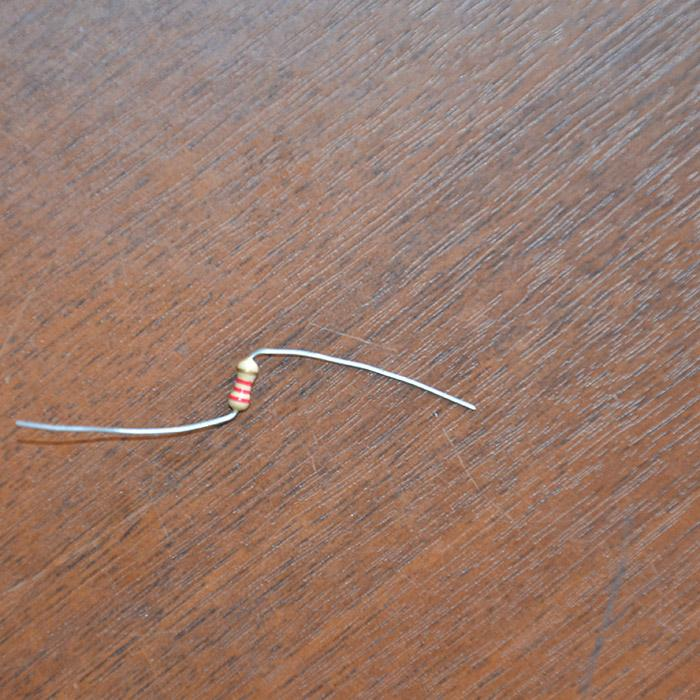resistor: (229, 356, 259, 411)
